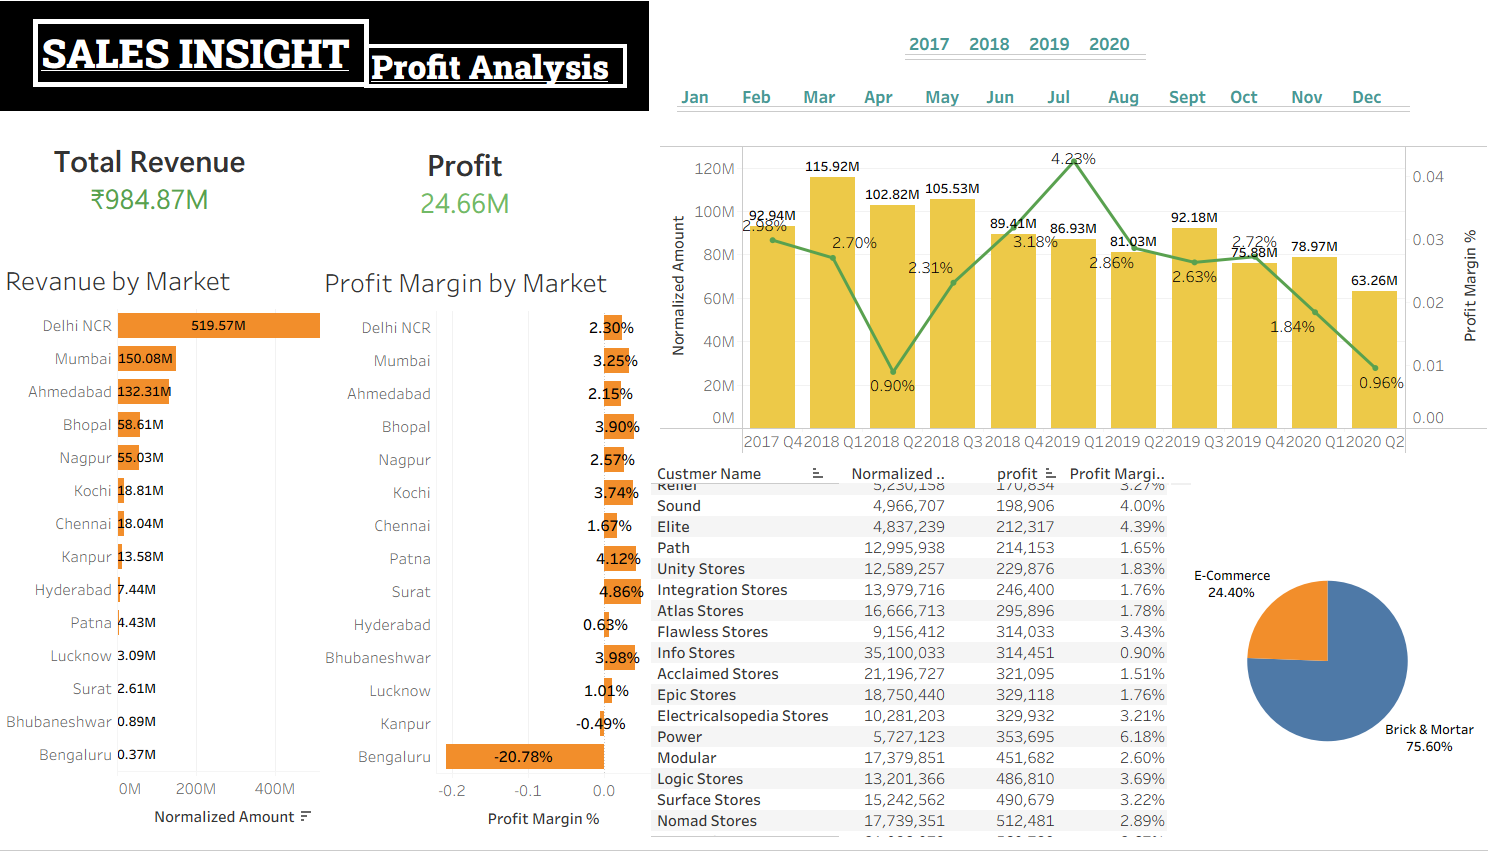

What the dashboard file says about the page in this screenshot:
{"tool":"tableau","page":{"name":"Dashboard- Profit Analysis","canvas":[1500,900],"ordinal":0},"visuals":[{"type":"blank","box":[11,13,639,110]},{"type":"text","box":[41,27,587,76]},{"type":"worksheet","title":"Year","mark":"Automatic","cols":["cy_date"],"box":[917,30,253,49]},{"type":"worksheet","title":"Month","mark":"Automatic","cols":["cy_date"],"box":[689,83,791,51]},{"type":"worksheet","title":"Profit","mark":"Automatic","box":[427,106,129,127]},{"type":"worksheet","title":"Revenue","mark":"Automatic","box":[62,137,210,105]},{"type":"worksheet","title":"Profit Trend","mark":"Bar","rows":["Calculation_792915037487079424","Calculation_1099441287882682368"],"cols":["cy_date"],"box":[672,143,828,323]},{"type":"worksheet","title":"Revanue by Market","mark":"Automatic","rows":["markets_name"],"cols":["Calculation_792915037487079424"],"box":[13,271,331,607]},{"type":"worksheet","title":"Profit Margin by Market","mark":"Automatic","rows":["markets_name"],"cols":["Calculation_1099441287882682368"],"box":[332,273,331,582]},{"type":"worksheet","title":"Customer Table","mark":"Automatic","rows":["custmer_name"],"box":[663,475,545,374]},{"type":"worksheet","title":"pie chart","mark":"Pie","box":[1179,497,321,352]}]}

Visuals, with their boxes on the page's 1500x900 design canvas (x1, y1, x2, y2). These are canvas units, not pixel positions in the 1488x851 screenshot, which may show the page scaled, cropped or inside an application window:
blank: (left=11, top=13, right=650, bottom=123)
text: (left=41, top=27, right=628, bottom=103)
"Year" worksheet: (left=917, top=30, right=1170, bottom=79)
"Month" worksheet: (left=689, top=83, right=1480, bottom=134)
"Profit" worksheet: (left=427, top=106, right=556, bottom=233)
"Revenue" worksheet: (left=62, top=137, right=272, bottom=242)
"Profit Trend" worksheet (Bar marks): (left=672, top=143, right=1500, bottom=466)
"Revanue by Market" worksheet: (left=13, top=271, right=344, bottom=878)
"Profit Margin by Market" worksheet: (left=332, top=273, right=663, bottom=855)
"Customer Table" worksheet: (left=663, top=475, right=1208, bottom=849)
"pie chart" worksheet (Pie marks): (left=1179, top=497, right=1500, bottom=849)
